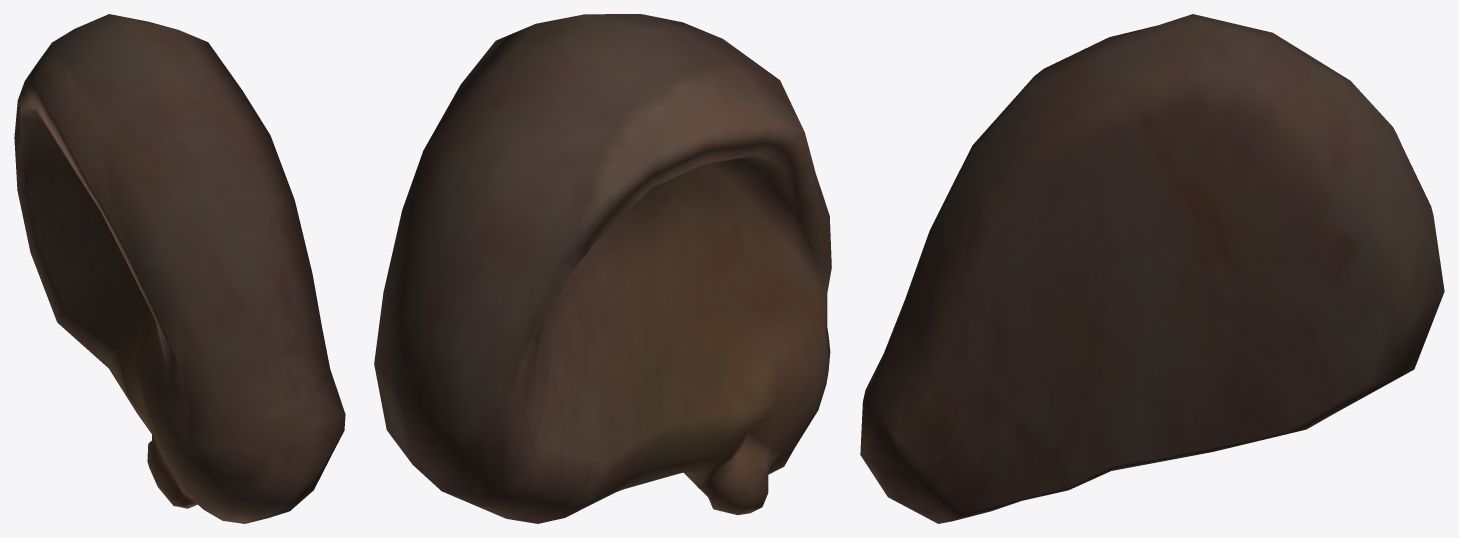
The model's file is Thalamus_Part_B.gltf.
3 views of the same model, side by side, from view 1: azimuth 30°, elevation 25°; view 2: azimuth 150°, elevation 25°; view 3: azimuth 270°, elevation 25° (orthographic). The views are drawn at different scales.
Parts seen in each view (by area): view 1: Thalamus_Part_B; view 2: Thalamus_Part_B; view 3: Thalamus_Part_B.
Boxes of the visible parts, bbox=[...] form: Thalamus_Part_B: bbox=[14, 14, 345, 523]; Thalamus_Part_B: bbox=[374, 14, 831, 523]; Thalamus_Part_B: bbox=[860, 14, 1444, 523].
Size of the model in its own units: 2.12 by 4.68 by 5.04.
1 material, 1 textured.
